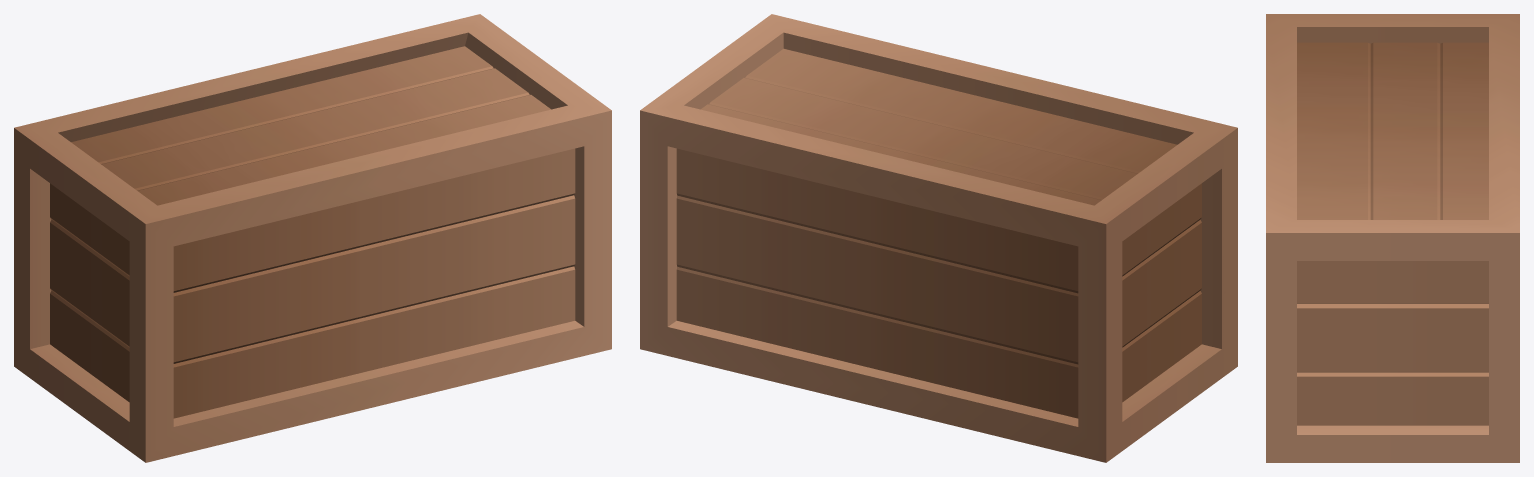
The model's file is SM_Exterior_Caja_01.fbx.
The picture shows the model from 3 angles, left to right: view 1: azimuth 30°, elevation 25°; view 2: azimuth 150°, elevation 25°; view 3: azimuth 270°, elevation 25°; orthographic projection. The views are drawn at different scales.
Parts seen in each view (by area): view 1: SM_Exterior_Caja1; view 2: SM_Exterior_Caja1; view 3: SM_Exterior_Caja1.
Boxes of the visible parts, box(x1,y1,x2,y2) form: SM_Exterior_Caja1: box(14, 14, 611, 462); SM_Exterior_Caja1: box(640, 14, 1237, 462); SM_Exterior_Caja1: box(1266, 14, 1519, 462).
Size of the model in its own units: 347 by 170 by 170.
